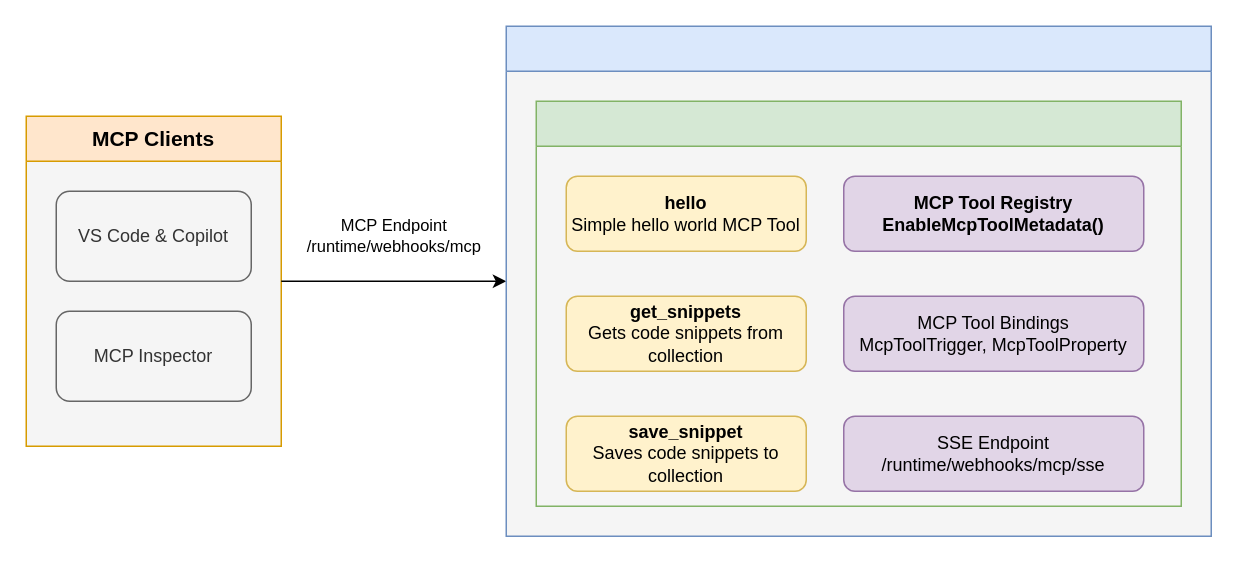
Some shapes in this 1238 by 563 pixel diagram are drawn without their labels. Each missing label, with the box of its shape:
Azure Function App (.NET 10 Isolated): (505, 25, 1211, 536)
MCP Tools: (535, 100, 1181, 506)
